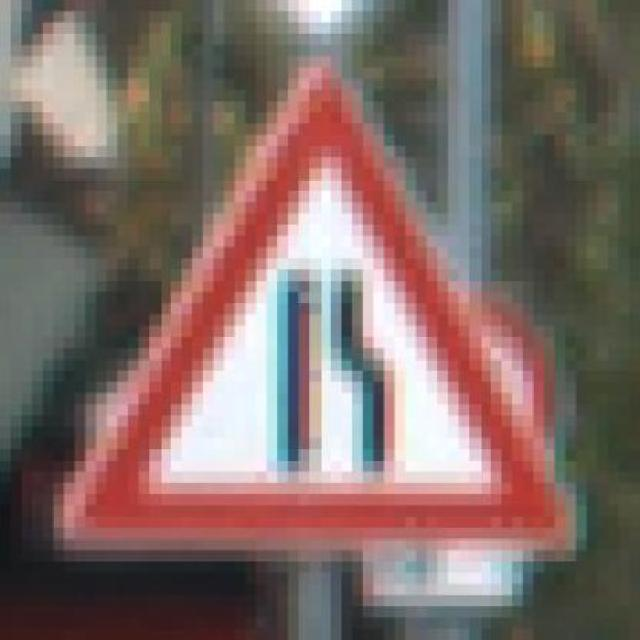-Road narrows on right: (42, 33, 587, 573)
